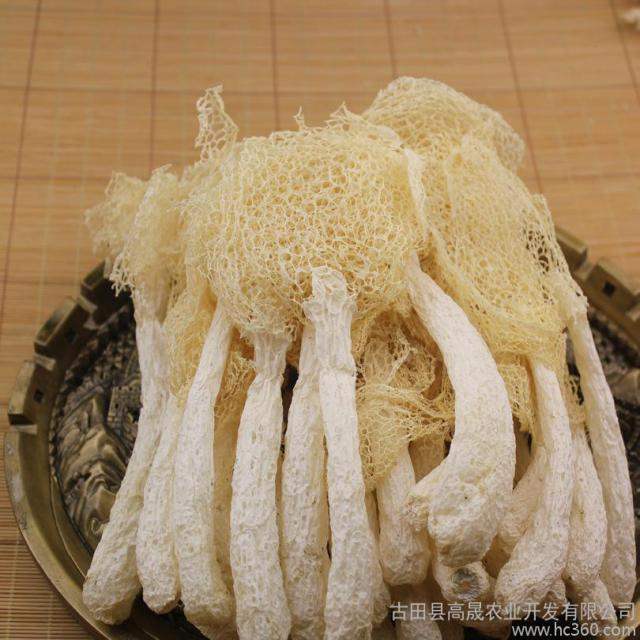Dictyophora indusiate: (81, 77, 635, 639)
